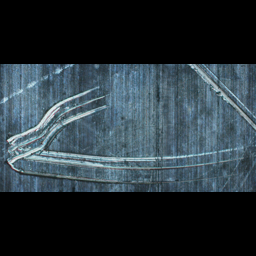d: (2, 81, 249, 185), (181, 64, 256, 132), (0, 64, 76, 111)
